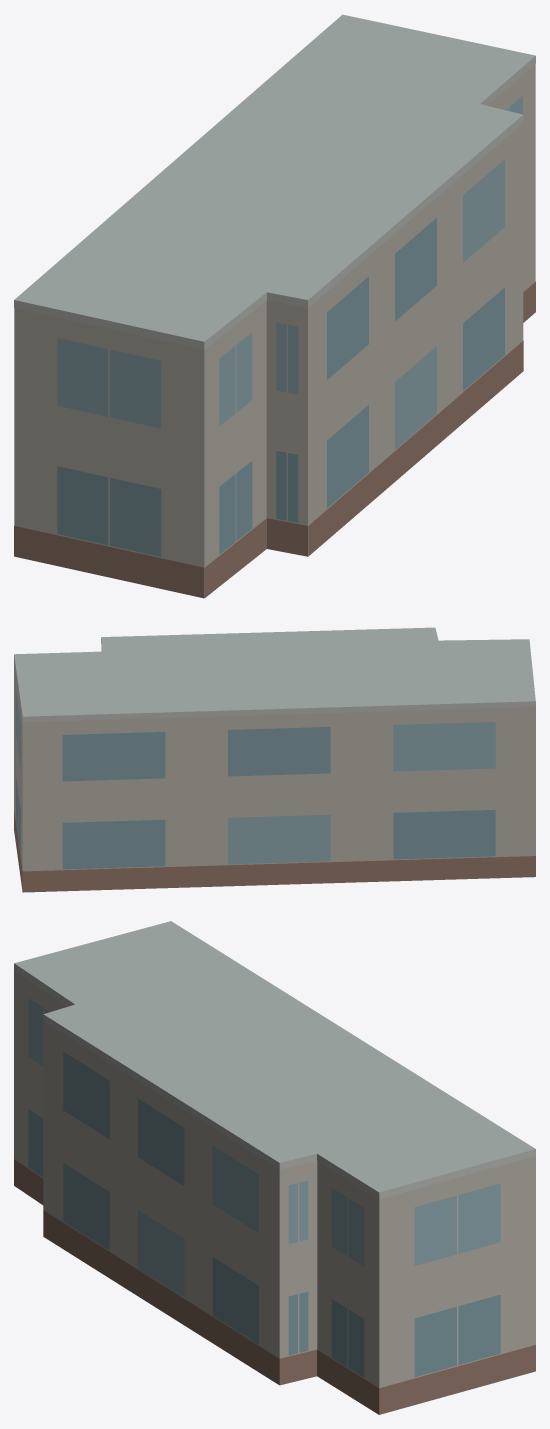
File: survey-upis-32940411.glb
3 views of the same model, one above another, from view 1: azimuth 30°, elevation 25°; view 2: azimuth 150°, elevation 25°; view 3: azimuth 270°, elevation 25° (orthographic). The views are drawn at different scales.
Visible parts, largest first — view 1: survey-upis-32940411.tmp; view 2: survey-upis-32940411.tmp; view 3: survey-upis-32940411.tmp.
Part boxes in pixels (x1,y1,x2,y2): survey-upis-32940411.tmp: (14, 14, 535, 598); survey-upis-32940411.tmp: (14, 627, 535, 892); survey-upis-32940411.tmp: (14, 921, 535, 1414).
Bounding box in the file's own units: 20.42 × 7.8 × 16.59.
